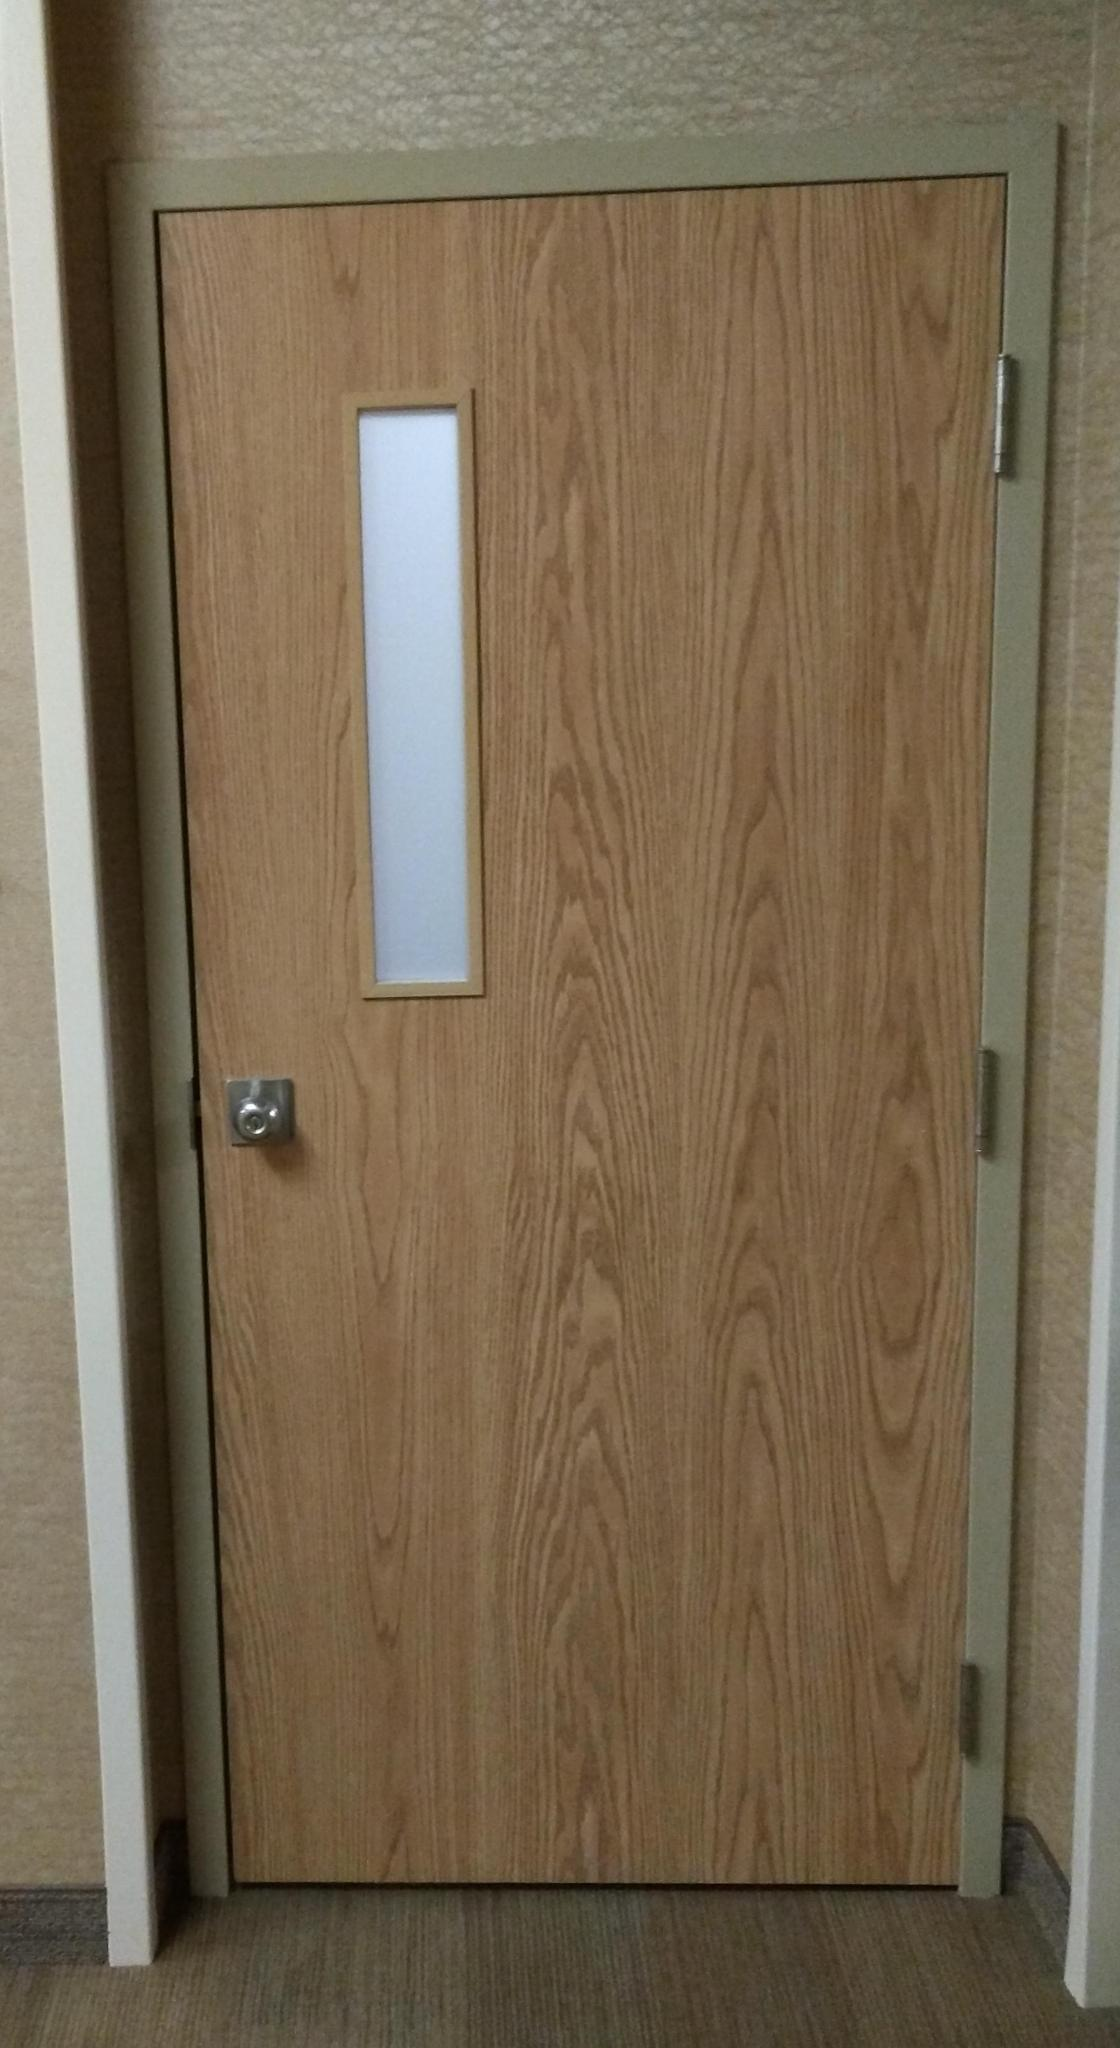door: (201, 247, 966, 1870)
handle: (223, 1050, 294, 1165)
